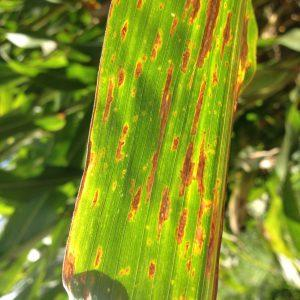Corn rust leaf: (59, 1, 249, 300)
